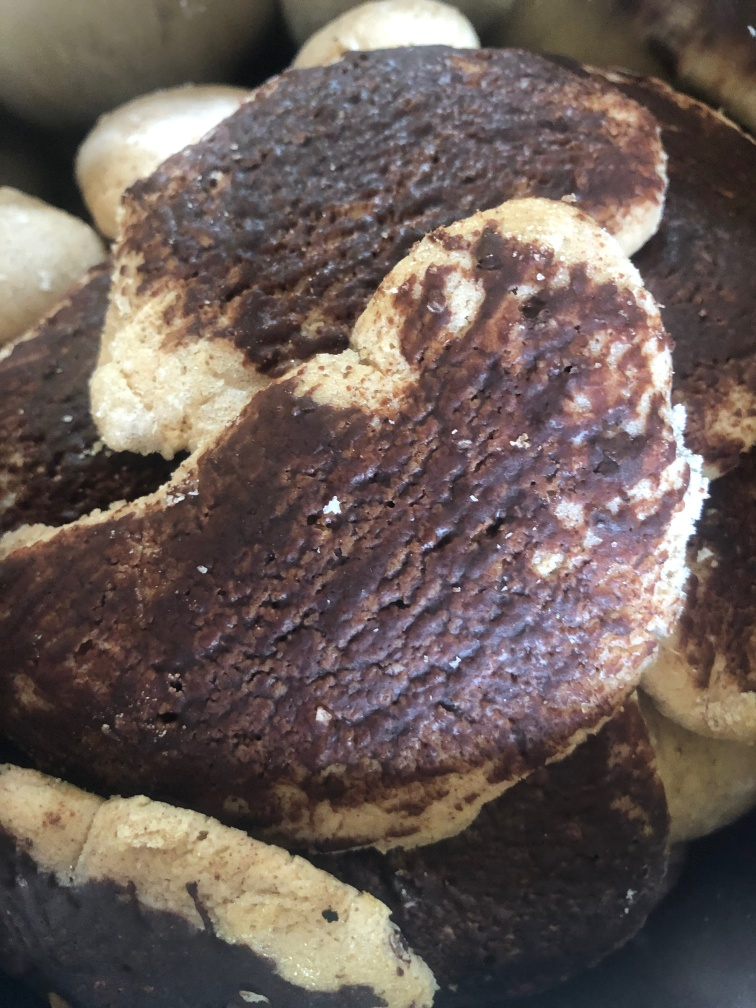weird #1: (4, 194, 698, 840), (87, 47, 665, 457), (2, 756, 441, 1008)
